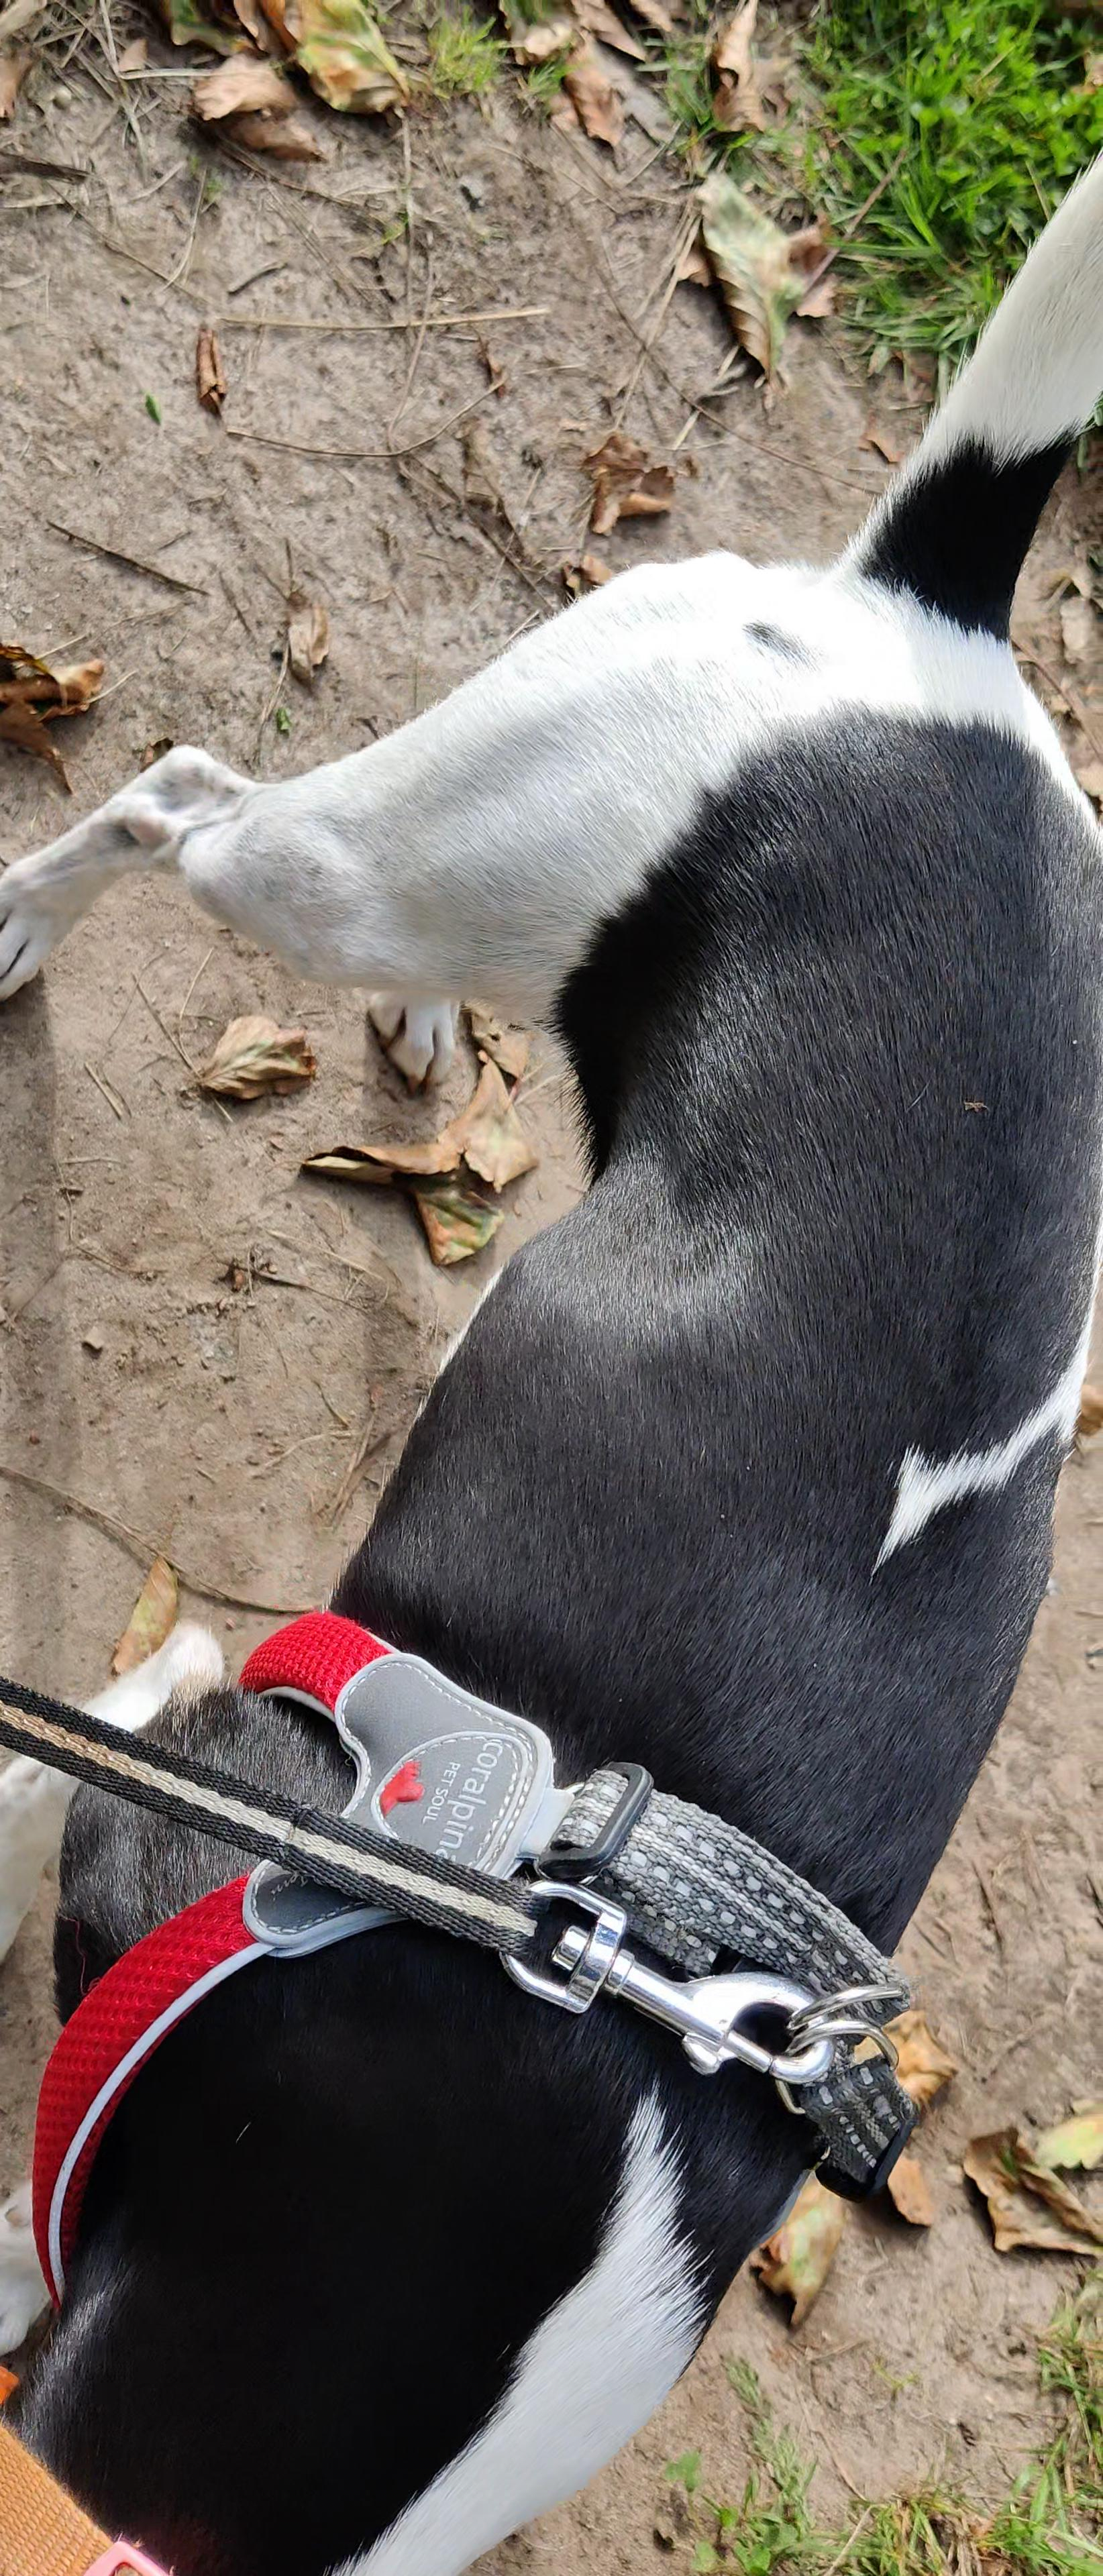Dog: (0, 145, 1103, 2576)
